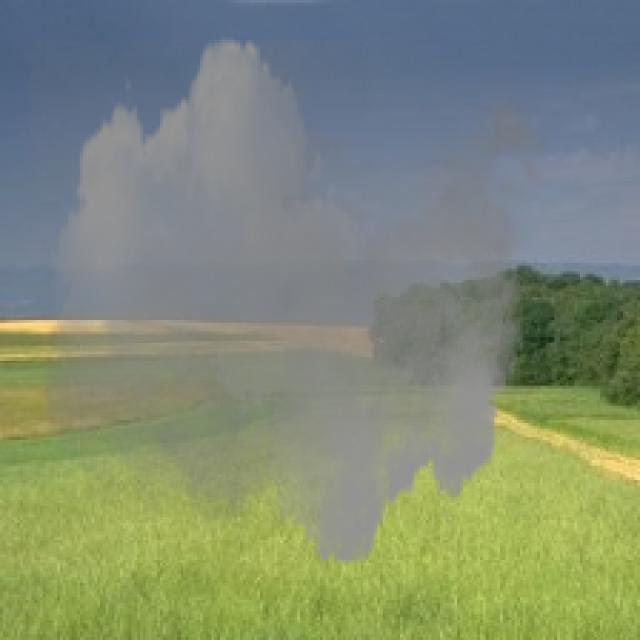smoke: (29, 20, 560, 583)
